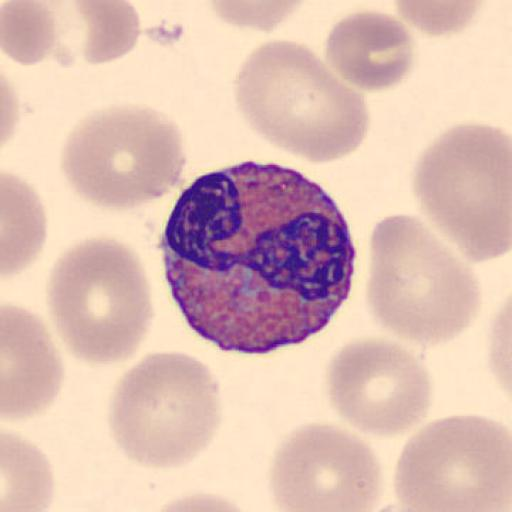RBC: (232, 38, 370, 164), (363, 210, 483, 348), (411, 121, 512, 265), (45, 237, 156, 367), (106, 349, 224, 470), (58, 102, 188, 211), (392, 412, 512, 512), (324, 336, 435, 440), (268, 420, 386, 512), (22, 1, 142, 67), (2, 303, 66, 422), (323, 10, 415, 92), (2, 168, 48, 281), (68, 0, 141, 66), (1, 430, 57, 512), (200, 0, 311, 35), (2, 0, 57, 66), (391, 0, 488, 37), (486, 296, 512, 402), (141, 492, 261, 511), (2, 71, 22, 150)
WBC: (159, 155, 360, 356)
